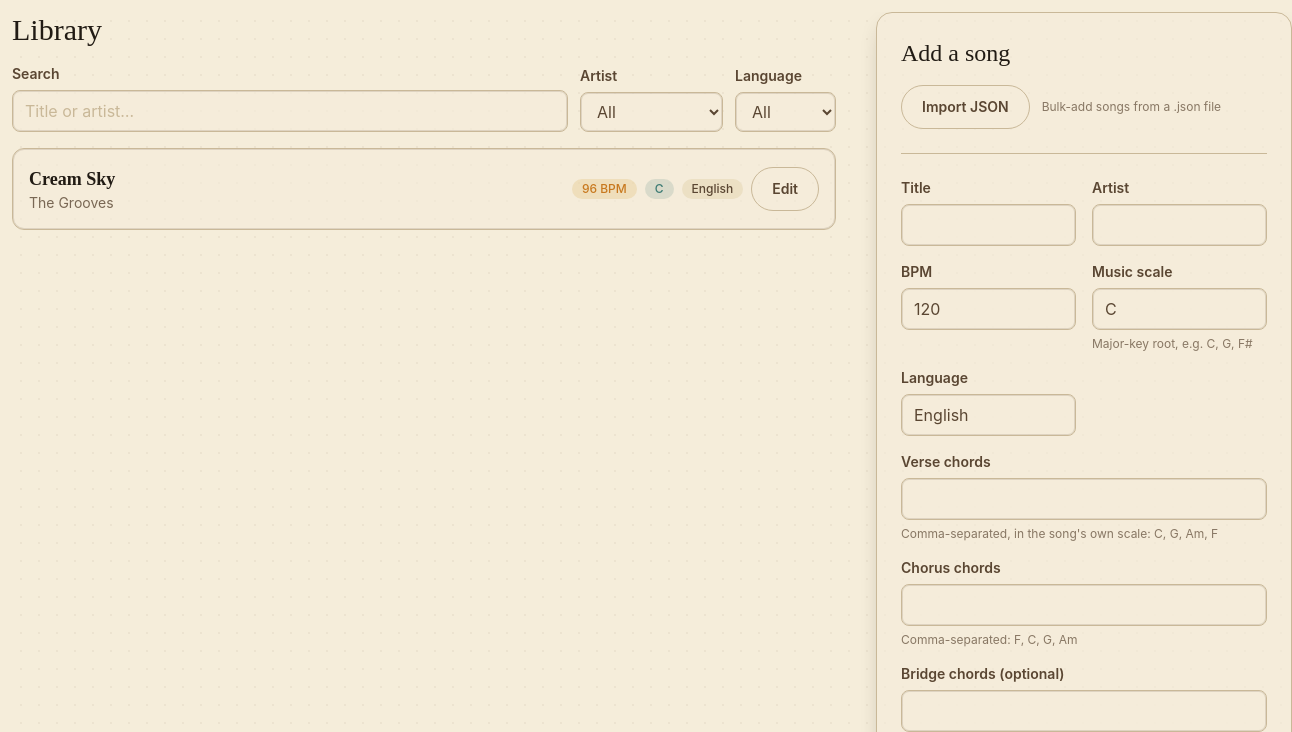
Scenario: SongsPage filters › shows the filtered empty state when a filter is applied and no songs match
The image size is (1292, 732).
expect the heading "Cream Sky" is shown: met, box [29,169,115,189]
Select "English" in the dropdown labelled "Language": (786, 112) [735,92,836,132]
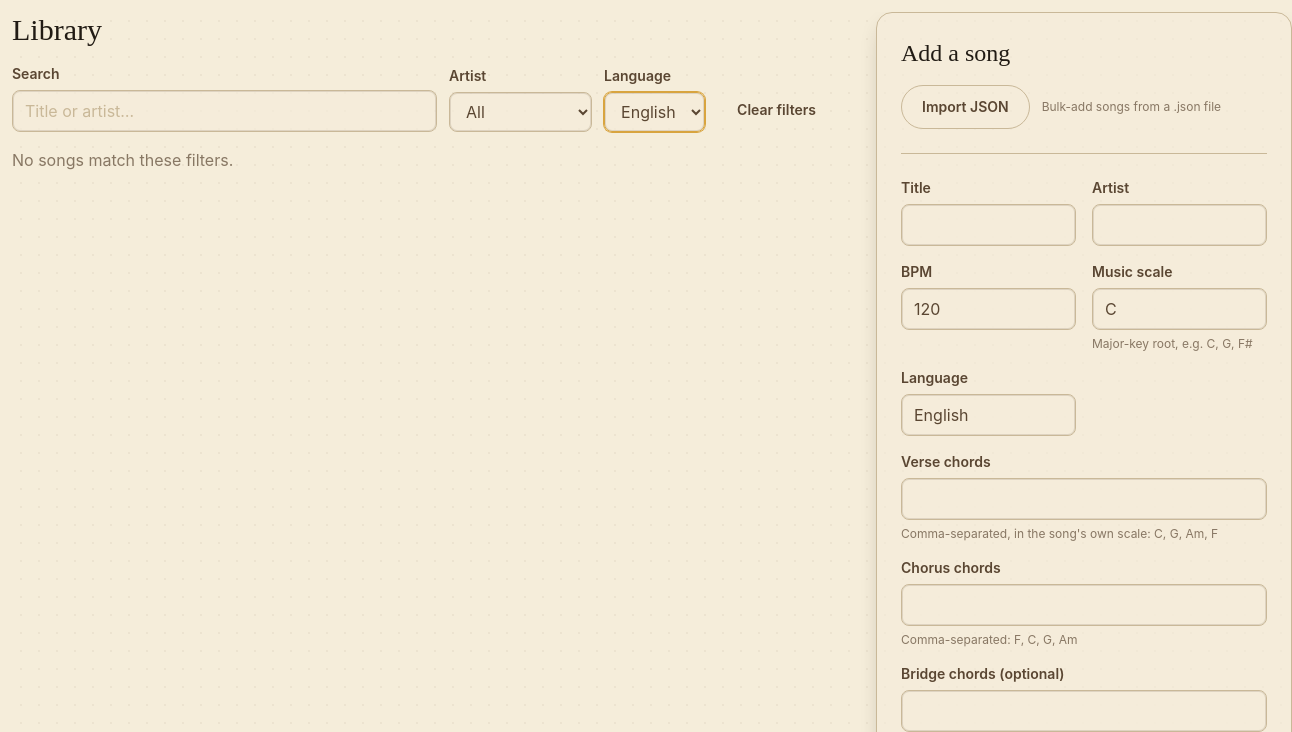
expect the text "No songs match these filters." is shown: met, box [12,150,233,170]
